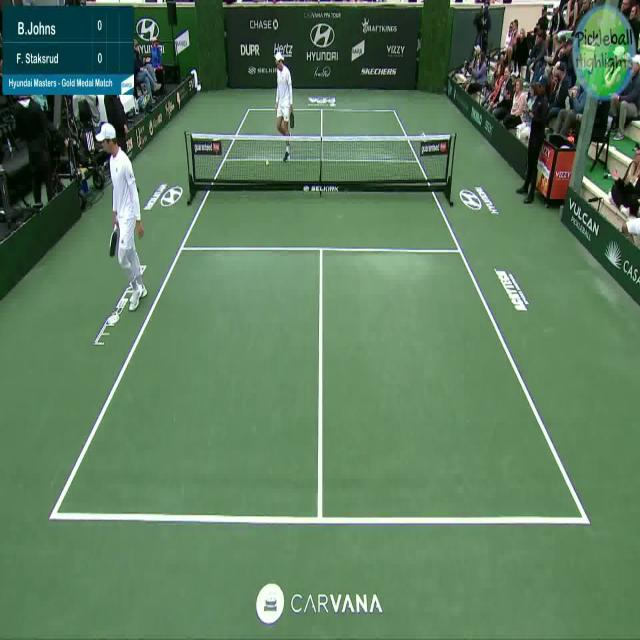ball: (266, 156, 270, 168)
